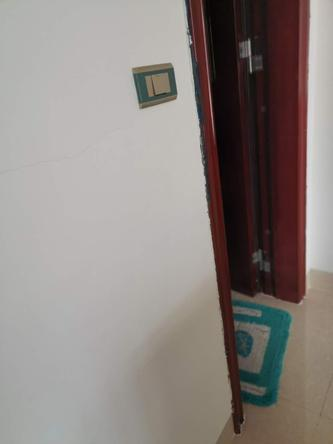switch: (149, 69, 172, 96)
